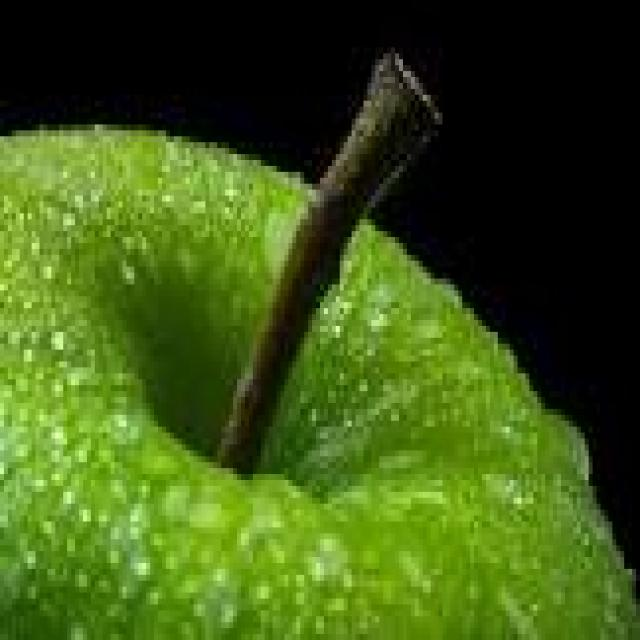apple: (0, 131, 639, 639)
